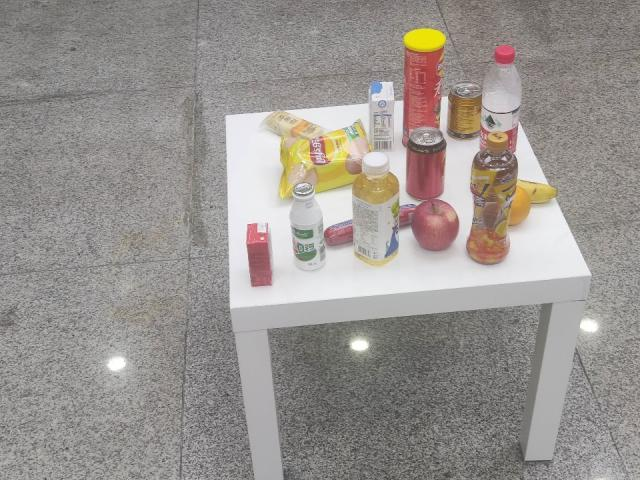Canned_drinks: (404, 125, 447, 202), (446, 80, 486, 141)
bottle: (473, 47, 535, 158), (291, 182, 326, 270)
cylinder: (398, 22, 450, 146)
drink_box: (240, 219, 282, 289), (364, 77, 402, 152)
